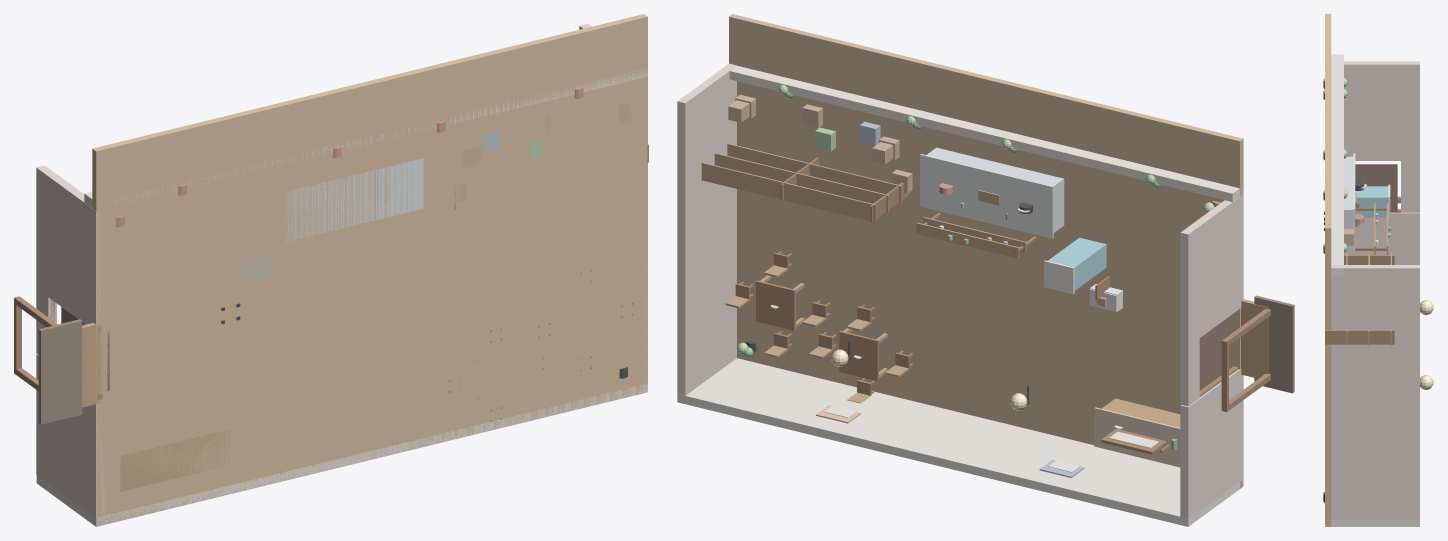
File: restaurant_v3.glb
3 views of the same model, side by side, from view 1: azimuth 30°, elevation 25°; view 2: azimuth 150°, elevation 25°; view 3: azimuth 270°, elevation 25° (orthographic). The views are drawn at different scales.
Parts seen in each view (by area): view 1: Floor, WL2, Kit, WBack, WL1, EFloor, Cntr, WF, Entry; view 2: Floor, WBack, WR, WF, WL2, WL1, KitTop, EFloor, CntrTop, Kit, Entry, ShBA_2 (+14 smaller); view 3: WR, WL2, Floor, WF, WL1, Door, ShRB, WLint, Frig, Kit, WBack, ShLA (+5 smaller).
Part boxes in pixels (left/top/right/bottom): Floor: left=92, top=14, right=647, bottom=526; WL2: left=36, top=165, right=104, bottom=329; Kit: left=286, top=158, right=423, bottom=242; WBack: left=36, top=383, right=647, bottom=526; WL1: left=36, top=354, right=104, bottom=518; EFloor: left=38, top=319, right=82, bottom=424; Cntr: left=120, top=429, right=230, bottom=491; WF: left=84, top=68, right=647, bottom=209; Entry: left=81, top=323, right=101, bottom=407; Floor: left=729, top=14, right=1243, bottom=488; WBack: left=677, top=358, right=1243, bottom=526; WR: left=677, top=63, right=736, bottom=403; WF: left=729, top=65, right=1243, bottom=201; WL2: left=1180, top=194, right=1243, bottom=346; WL1: left=1180, top=369, right=1243, bottom=518; KitTop: left=920, top=154, right=1053, bottom=238; EFloor: left=1254, top=295, right=1294, bottom=393; CntrTop: left=1094, top=407, right=1180, bottom=467; Kit: left=926, top=147, right=1064, bottom=232; Entry: left=1241, top=299, right=1268, bottom=378; ShBA_2: left=779, top=181, right=876, bottom=222; WR: left=1331, top=265, right=1419, bottom=519; WL2: left=1344, top=61, right=1419, bottom=160; Floor: left=1325, top=14, right=1331, bottom=526; WF: left=1328, top=54, right=1343, bottom=275; WL1: left=1344, top=212, right=1419, bottom=264; Door: left=1355, top=164, right=1397, bottom=212; ShRB: left=1325, top=330, right=1394, bottom=344; WLint: left=1401, top=161, right=1419, bottom=212; Frig: left=1355, top=186, right=1388, bottom=217; Kit: left=1344, top=156, right=1353, bottom=250; WBack: left=1325, top=519, right=1419, bottom=526; ShLA: left=1344, top=255, right=1394, bottom=264.
Bounding box in the file's own units: 17.7 × 10.4 × 3.48.
